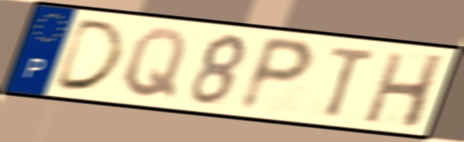8: (187, 32, 251, 107)
D: (50, 17, 129, 93)
H: (360, 50, 449, 131)
P: (234, 33, 318, 114)
Q: (120, 26, 190, 102)
T: (323, 44, 380, 120)
